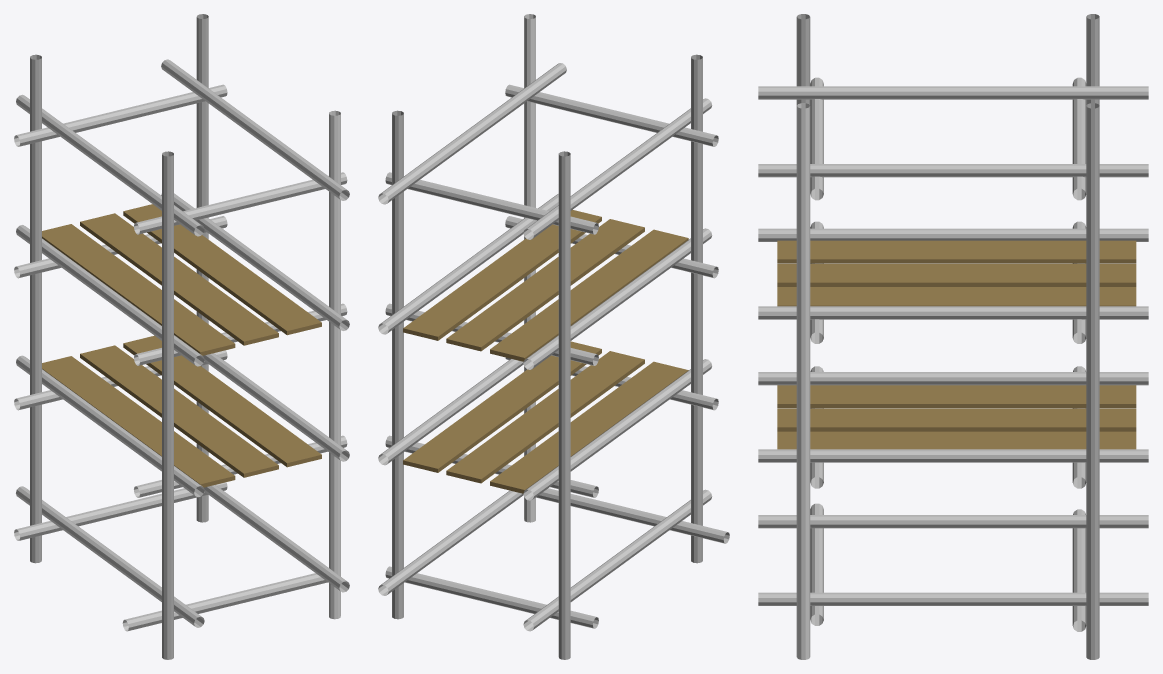
The model's file is scaffolding5.fbx.
3 views of the same model, side by side, from view 1: azimuth 30°, elevation 25°; view 2: azimuth 150°, elevation 25°; view 3: azimuth 270°, elevation 25° (orthographic). The views are drawn at different scales.
Visible parts, largest first — view 1: pCylinder48, pCube57, pCube60, pCube55, pCube52, pCube59, pCylinder87, pCube61, pCylinder36, pCylinder47, pCylinder74, pCylinder81 (+14 smaller); view 2: pCylinder87, pCube57, pCube60, pCube55, pCube52, pCube59, pCube61, pCylinder48, pCylinder47, pCylinder74, pCylinder36, pCylinder52 (+14 smaller); view 3: pCylinder36, pCube55, pCube57, pCube61, pCylinder47, pCube60, pCube59, pCube52, pCylinder81, pCylinder52, pCylinder42, pCylinder92 (+10 smaller).
Part boxes in pixels (x1,y1,x2,y2): pCylinder48: [162, 151, 173, 659]; pCube57: [80, 345, 278, 477]; pCube60: [80, 213, 278, 345]; pCube55: [42, 224, 235, 355]; pCube52: [123, 335, 321, 467]; pCube59: [123, 204, 321, 335]; pCylinder87: [30, 54, 41, 563]; pCube61: [42, 356, 235, 487]; pCylinder36: [329, 110, 340, 619]; pCylinder47: [196, 14, 208, 522]; pCylinder74: [161, 59, 349, 200]; pCylinder81: [16, 94, 204, 236]; pCylinder87: [558, 151, 570, 659]; pCube57: [446, 351, 644, 483]; pCube60: [446, 219, 644, 351]; pCube55: [490, 229, 688, 361]; pCube52: [403, 341, 601, 472]; pCube59: [403, 209, 601, 340]; pCube61: [490, 361, 688, 493]; pCylinder48: [691, 54, 702, 563]; pCylinder47: [392, 110, 403, 619]; pCylinder74: [378, 63, 566, 204]; pCylinder36: [524, 14, 535, 522]; pCylinder52: [378, 194, 558, 334]; pCylinder36: [796, 103, 810, 659]; pCube55: [777, 240, 1136, 263]; pCube57: [777, 408, 1136, 431]; pCube61: [777, 385, 1136, 408]; pCylinder47: [1086, 103, 1099, 659]; pCube60: [777, 264, 1136, 286]; pCube59: [777, 287, 1136, 306]; pCube52: [777, 431, 1136, 449]; pCylinder81: [758, 86, 1148, 99]; pCylinder52: [758, 306, 1148, 319]; pCylinder42: [758, 449, 1148, 462]; pCylinder92: [758, 372, 1148, 385].
Bounding box in the file's own units: 10.43 × 22.96 × 14.74.
